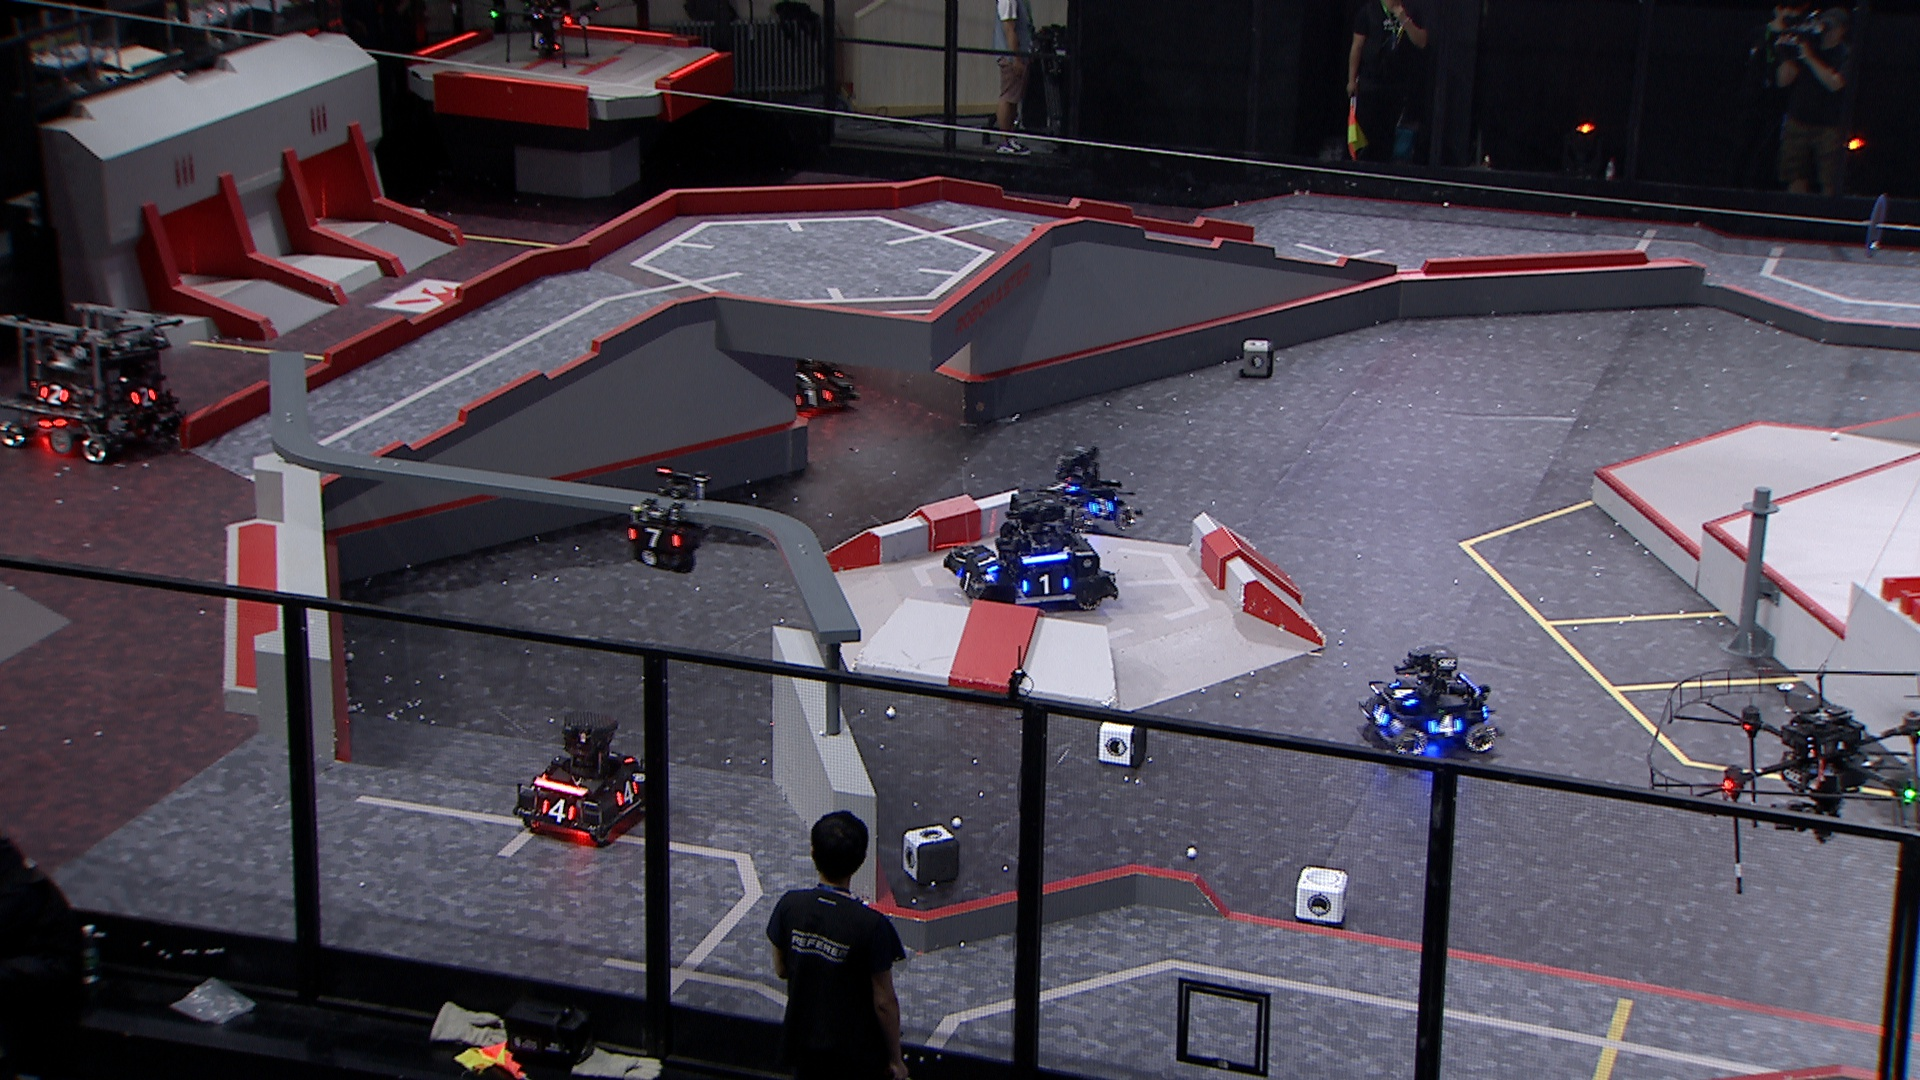armor: (626, 526, 684, 553), (1021, 574, 1073, 597), (541, 796, 579, 828), (1425, 713, 1465, 740), (793, 389, 836, 410), (1387, 680, 1416, 708), (40, 382, 73, 406), (615, 779, 641, 807), (1087, 496, 1120, 516), (1370, 702, 1395, 727), (131, 386, 158, 409), (793, 371, 828, 386), (955, 567, 978, 591), (978, 551, 1002, 574), (1046, 480, 1081, 495)
car: (942, 484, 1122, 617), (514, 708, 671, 849), (1353, 644, 1509, 764), (727, 291, 856, 419), (1034, 446, 1145, 531)
watcher: (621, 463, 717, 574)
